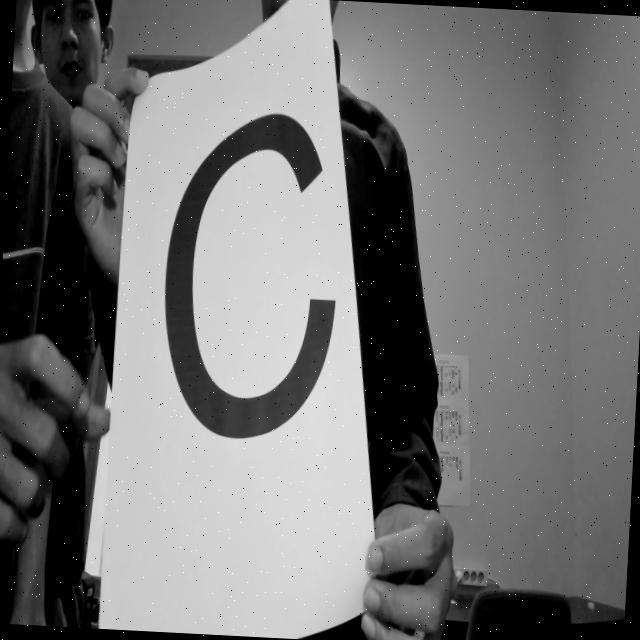c: (144, 83, 366, 467)
